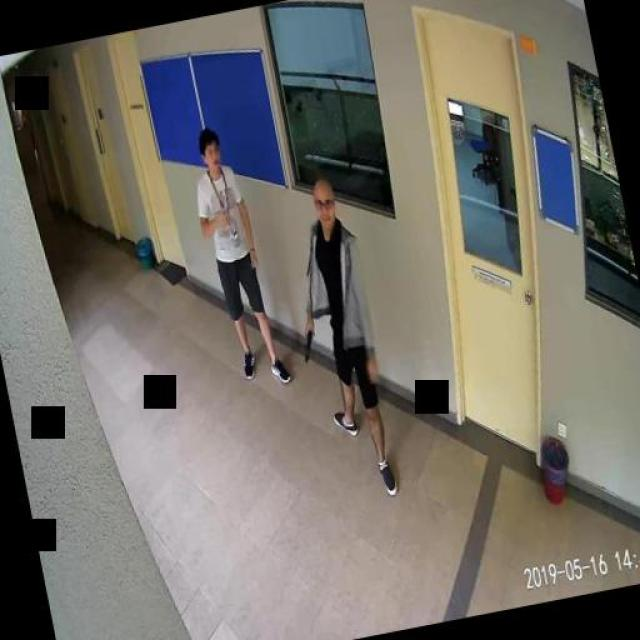gun: (298, 324, 318, 361)
